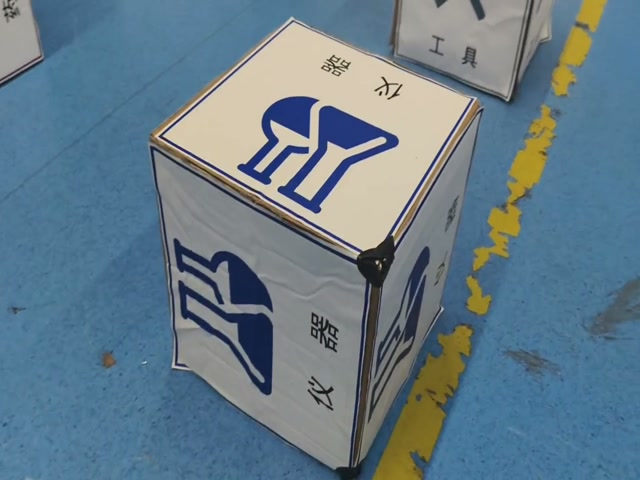Cube_ins: (140, 12, 479, 276)
